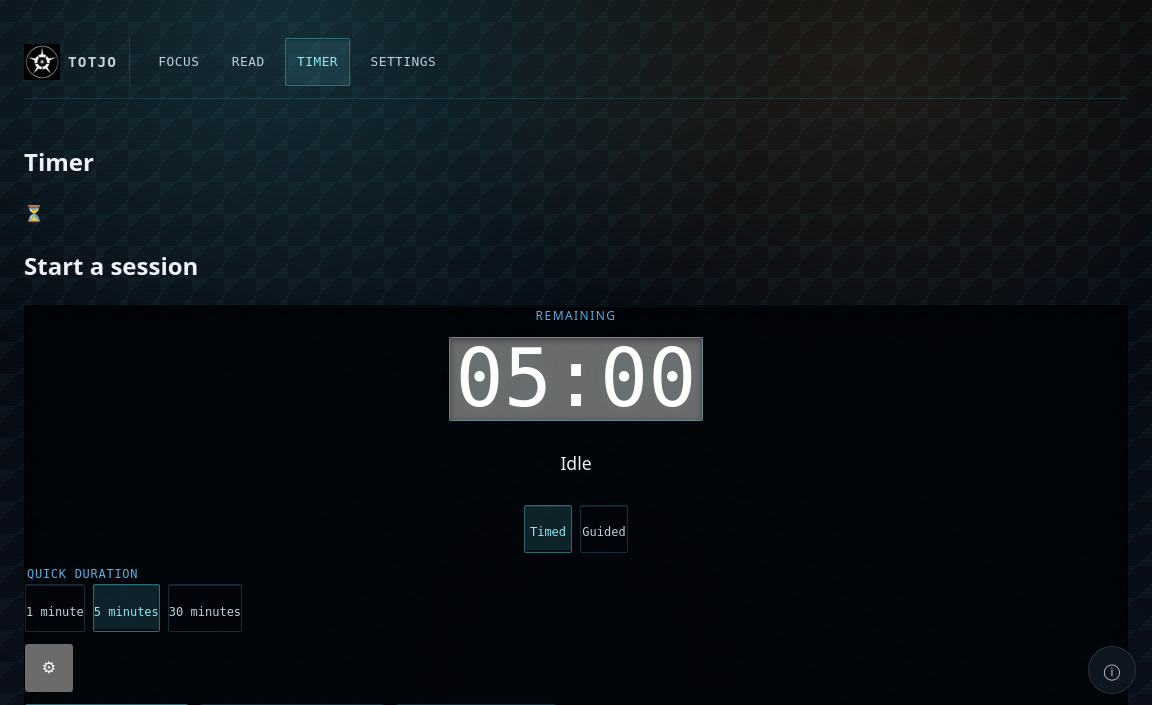
Test: guided meditation timer › opens guided mode from the toggle and lets you pick from existing audio when no default is chosen
This screenshot has width=1152, height=705.
Click the button with test id "timer-mode-guided" at (604, 529), box left=580, top=505, right=628, bottom=553
(page scrolled)
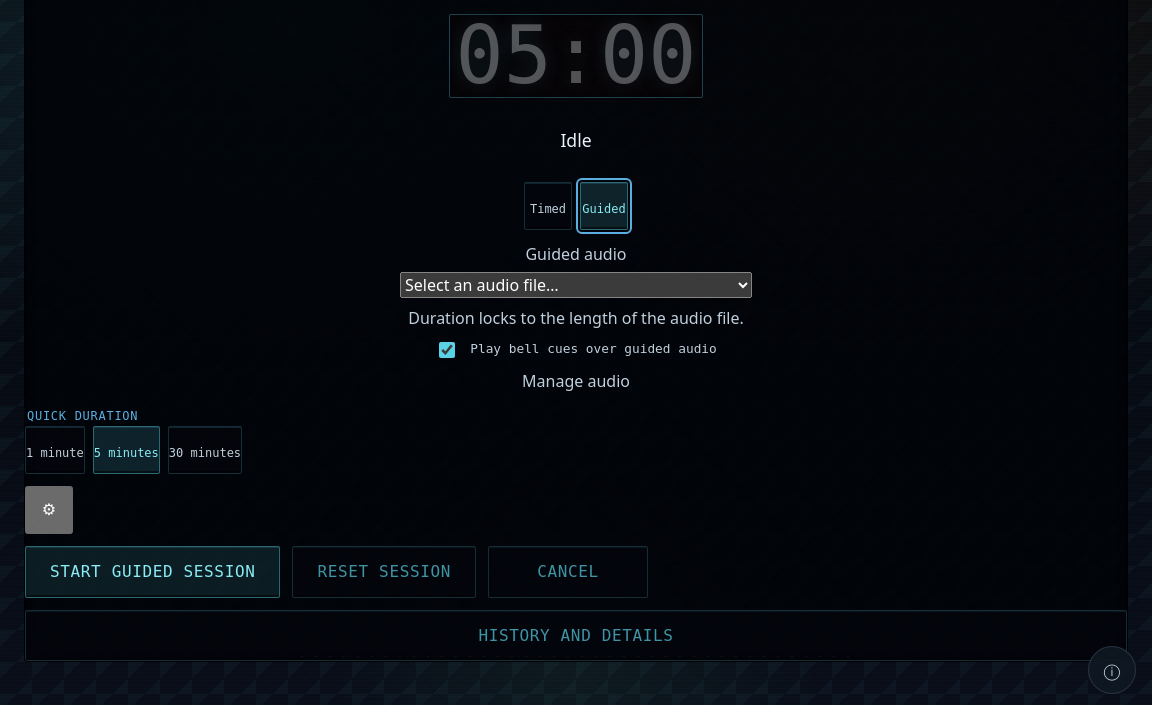
Expected: the dropdown with test id "timer-guided-audio-select" shows "Select an audio file…", left=400, top=272, right=752, bottom=298
Expected: the button with test id "timer-start" is disabled, left=25, top=546, right=280, bottom=598
